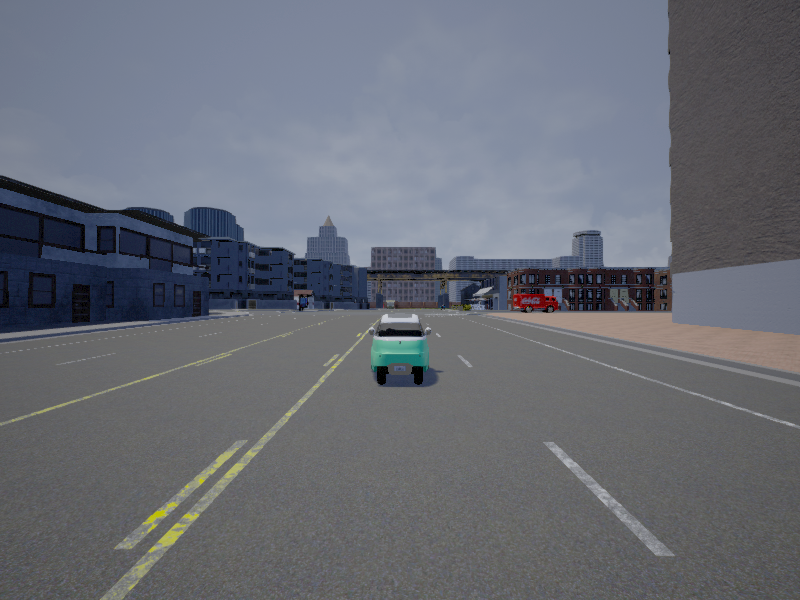Benign: (370, 313, 431, 385), (513, 294, 559, 313)
